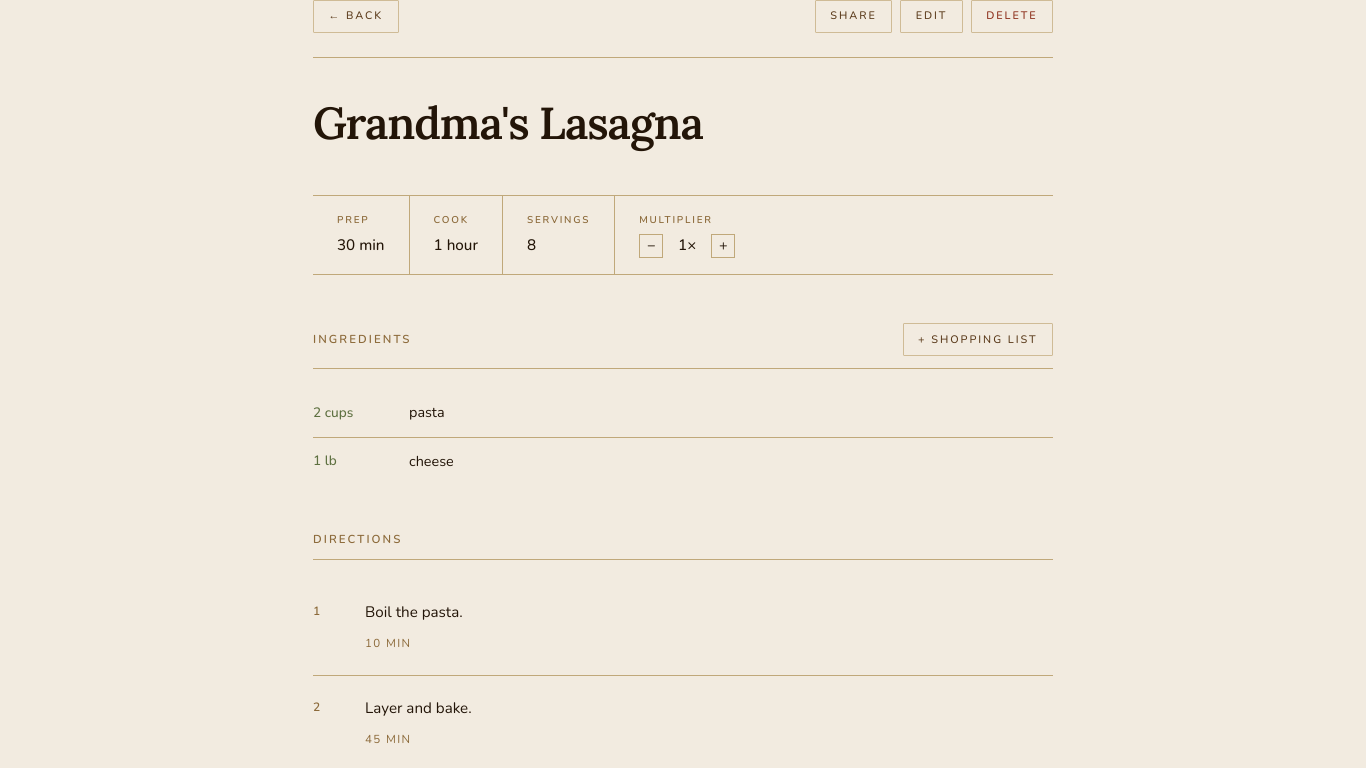
Test: RecipeViewer › clicking Delete shows a confirmation dialog
The image size is (1366, 768).
Check: the heading "Grandma's Lasagna" is shown, box left=313, top=94, right=703, bottom=151
Click the button "Delete" at coordinates (1012, 16), box left=971, top=0, right=1053, bottom=33
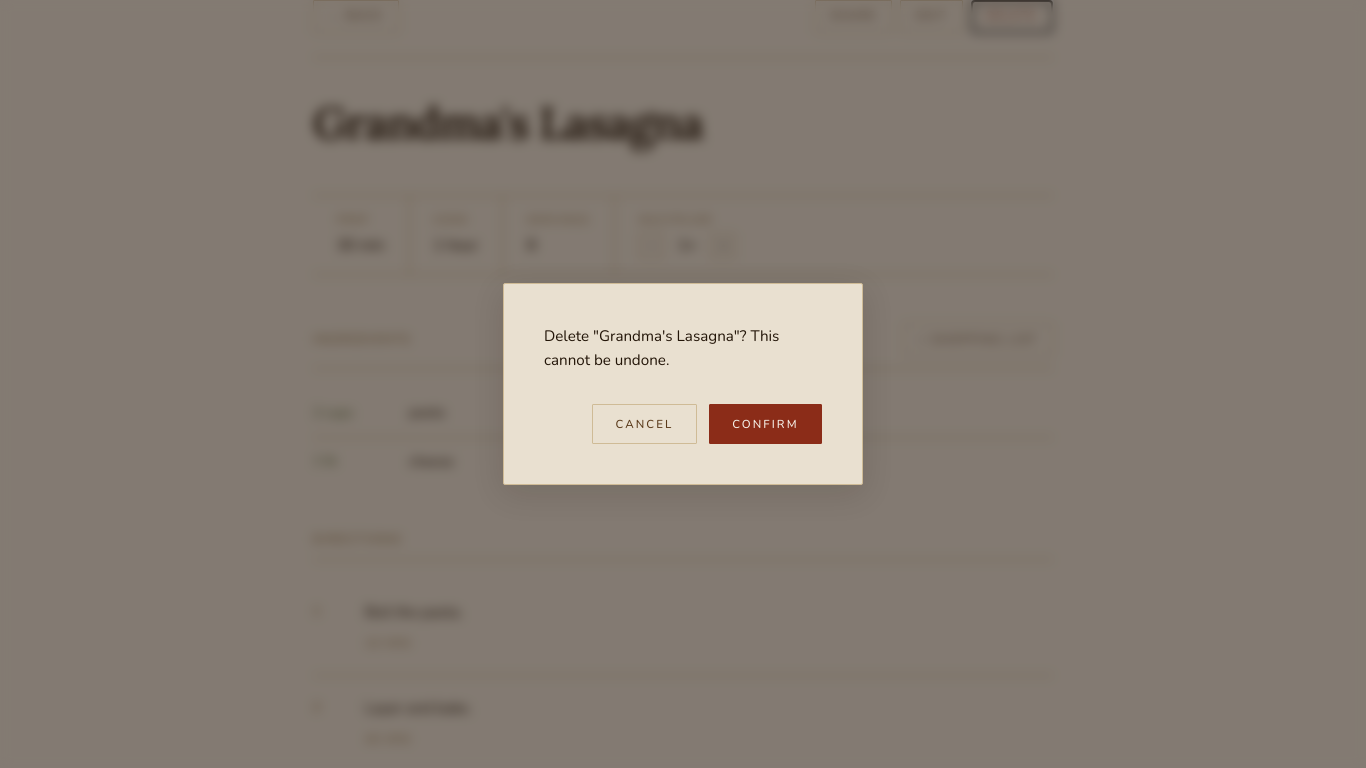
Check: the text "Delete \"Grandma's Lasagna\"? This cannot be undone." is shown, box left=544, top=326, right=779, bottom=370
Check: the button "Confirm" is shown, box left=709, top=404, right=822, bottom=444
Check: the button "Cancel" is shown, box left=592, top=404, right=697, bottom=444
